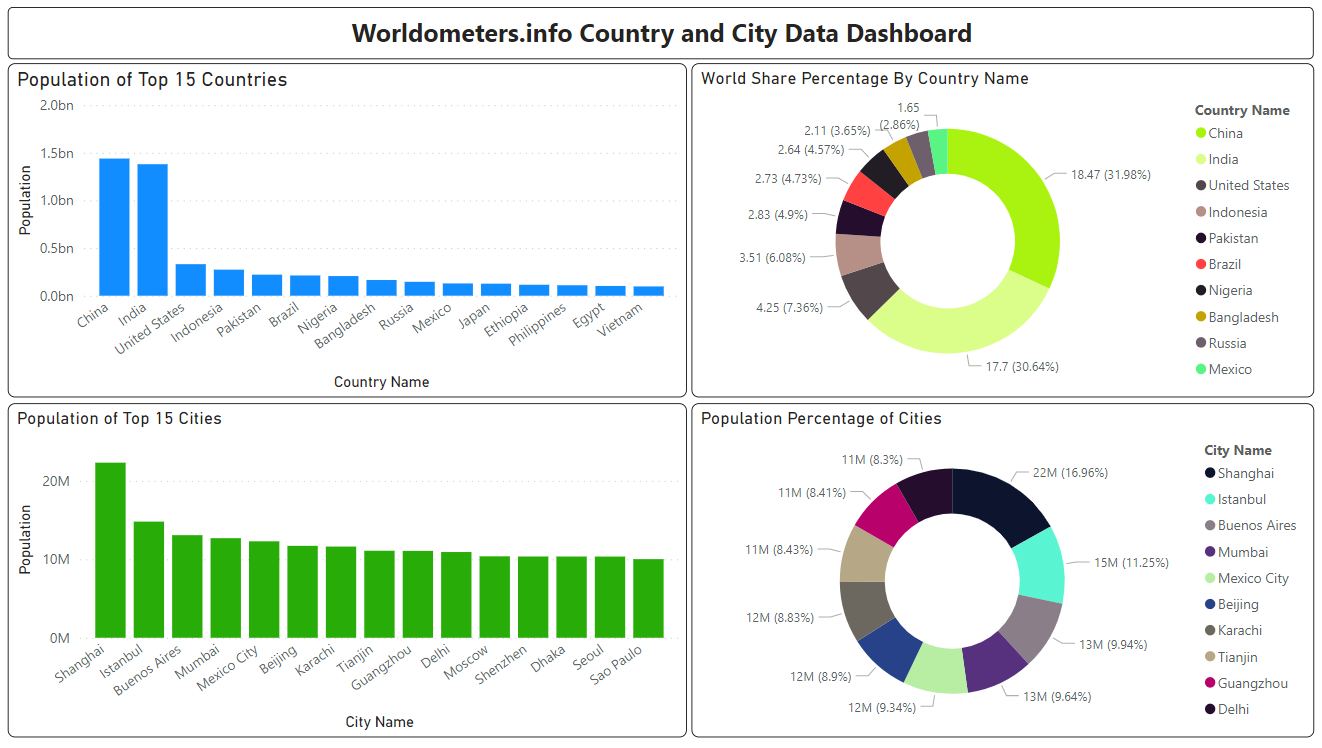

Layout of this report page (visuals, bound fields, positions):
{"tool":"powerbi","page":{"name":"Country and City Daashboard","canvas":[1280,720],"ordinal":0},"visuals":[{"type":"textbox","box":[8.4,10,1260.3,50],"z":0},{"type":"clusteredColumnChart","title":"Population of Top 15 Countries","fields":{"Category":["country_data.country_name"],"Y":["Sum(country_data.population)"]},"box":[8.4,63.9,654.9,322],"z":1},{"type":"donutChart","title":"World Share Percentage By Country Name","fields":{"Y":["Sum(country_data.World_Share)"],"Category":["country_data.country_name"]},"box":[668.1,63.9,600.6,322],"z":3},{"type":"donutChart","title":"Population Percentage of Cities","fields":{"Category":["city_data.City_Name"],"Y":["Sum(city_data.Population)"]},"box":[668.1,392,600.6,322],"z":5},{"type":"clusteredColumnChart","title":"Population of Top 15 Cities","fields":{"Category":["city_data.City_Name"],"Y":["Sum(city_data.Population)"]},"box":[8,392,655,322],"z":6}]}

Visuals, with their boxes in screenshot pixels (x1, y1, x2, y2), scaled from the page's 1280x720 canvas onto the 1322x748 screenshot:
textbox: 9/10/1310/62
"Population of Top 15 Countries" clusteredColumnChart: 9/66/685/401
"World Share Percentage By Country Name" donutChart: 690/66/1310/401
"Population Percentage of Cities" donutChart: 690/407/1310/742
"Population of Top 15 Cities" clusteredColumnChart: 8/407/685/742
